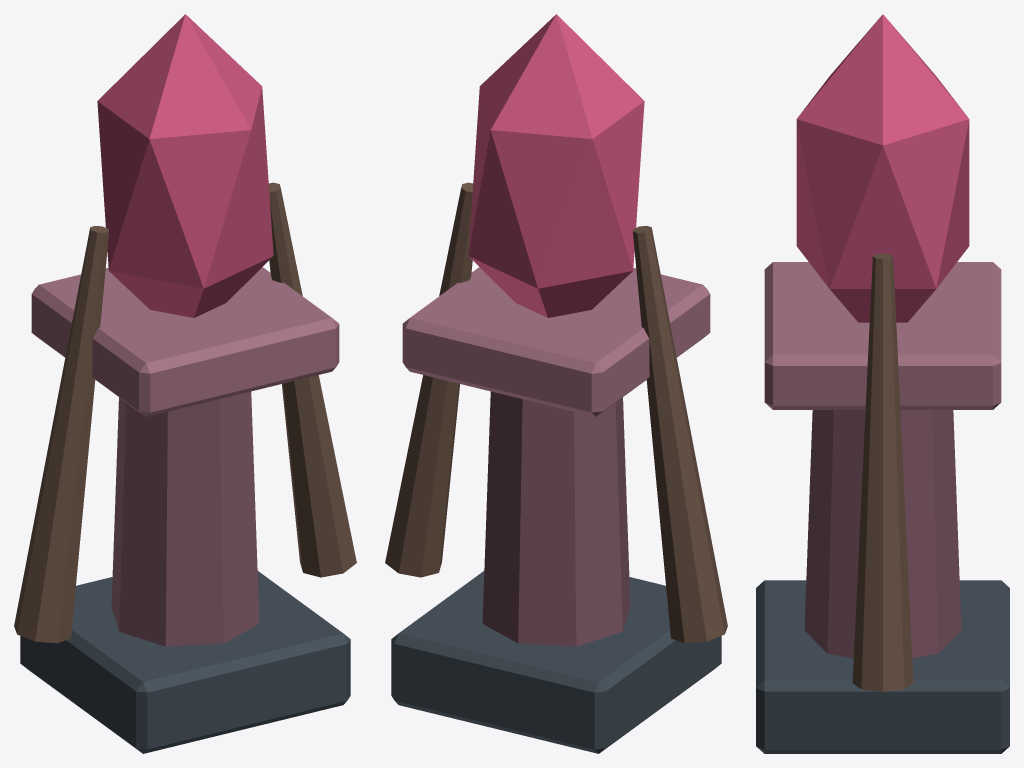
The model's file is SH10_L05_BogTotem.fbx.
The picture shows the model from 3 angles, left to right: view 1: azimuth 30°, elevation 25°; view 2: azimuth 150°, elevation 25°; view 3: azimuth 270°, elevation 25°; orthographic projection. The views are drawn at different scales.
Visible parts, largest first — view 1: SH10_L05_BogTotem; view 2: SH10_L05_BogTotem; view 3: SH10_L05_BogTotem.
Part boxes in pixels (<box>): SH10_L05_BogTotem: <box>14,14,356,753</box>; SH10_L05_BogTotem: <box>385,14,727,753</box>; SH10_L05_BogTotem: <box>756,14,1009,753</box>.
Size of the model in its own units: 118 by 225 by 75.
